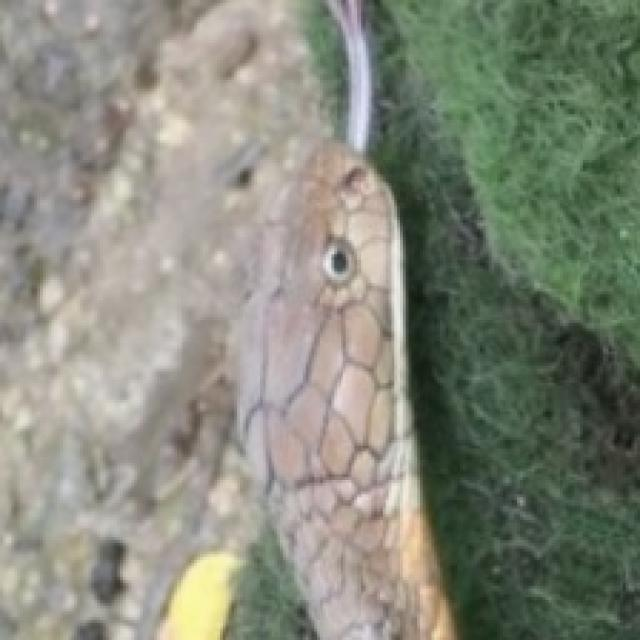king cobra: (163, 0, 454, 637)
